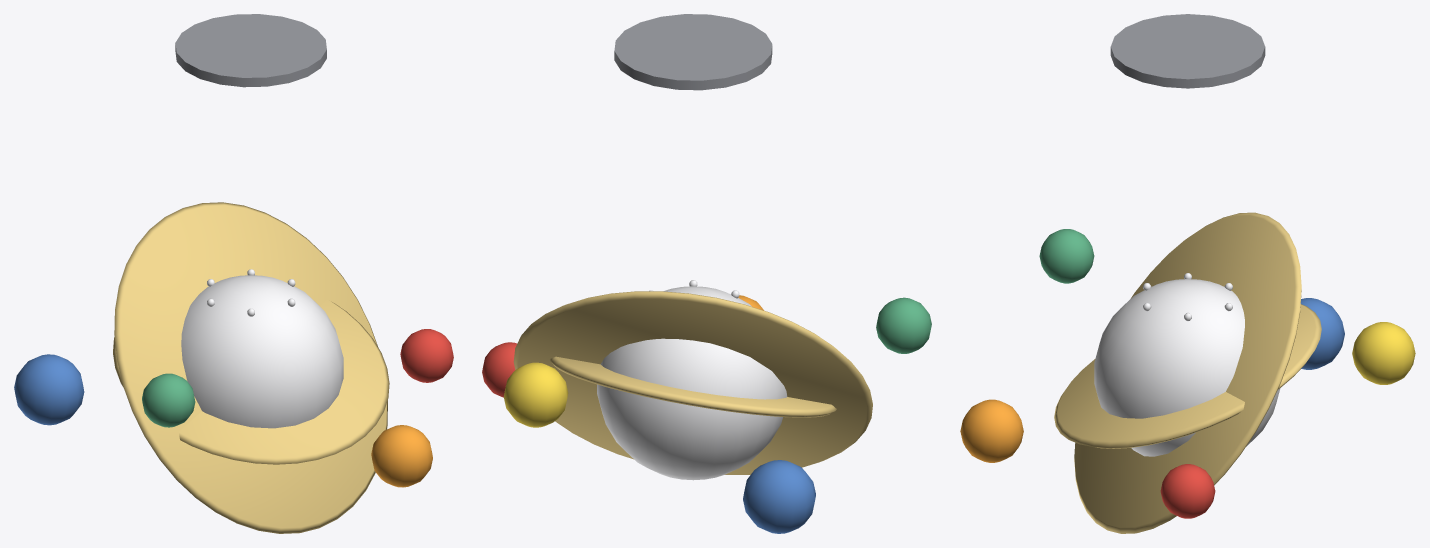
Rendered from sculpture_momentum.glb.
3 renders of one model, left to right at view 1: azimuth 30°, elevation 25°; view 2: azimuth 150°, elevation 25°; view 3: azimuth 270°, elevation 25°, orthographic. The views are drawn at different scales.
Visible parts, largest first — view 1: sculpture_momentum; view 2: sculpture_momentum; view 3: sculpture_momentum.
Part boxes in pixels (bbox=[...]): sculpture_momentum: bbox=[14, 14, 453, 533]; sculpture_momentum: bbox=[482, 14, 931, 533]; sculpture_momentum: bbox=[960, 14, 1415, 533].
Bounding box in the file's own units: 5.06 × 5.87 × 5.31.
